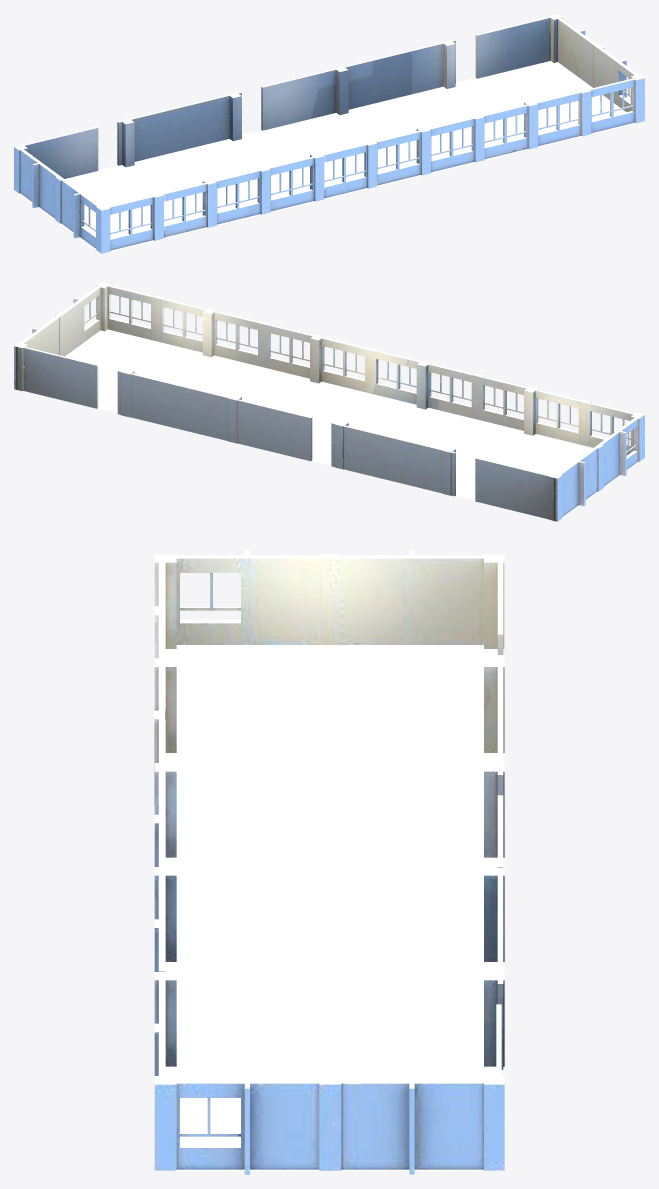
The picture shows the model from 3 angles, top to bottom: view 1: azimuth 30°, elevation 25°; view 2: azimuth 150°, elevation 25°; view 3: azimuth 270°, elevation 25°; orthographic projection. The views are drawn at different scales.
Parts seen in each view (by area): view 1: hb_1floor_room01 (1)_0; view 2: hb_1floor_room01 (1)_0; view 3: hb_1floor_room01 (1)_0.
Boxes of the visible parts, x1,y1,x2,y2 form: hb_1floor_room01 (1)_0: (14,14,644,253); hb_1floor_room01 (1)_0: (14,282,644,521); hb_1floor_room01 (1)_0: (154,550,504,1174).
Size of the model in its own units: 4.82 by 0.3596 by 1.32.
1 material, 1 textured.
